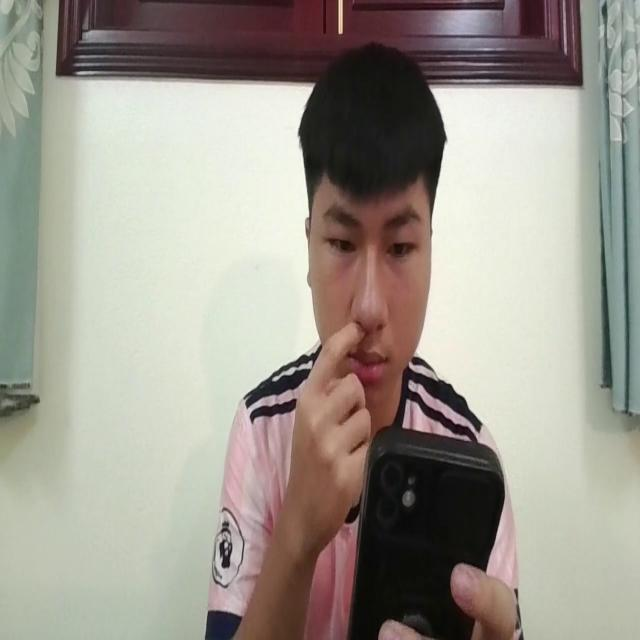phone: (346, 410, 504, 640)
student: (201, 39, 522, 640)
